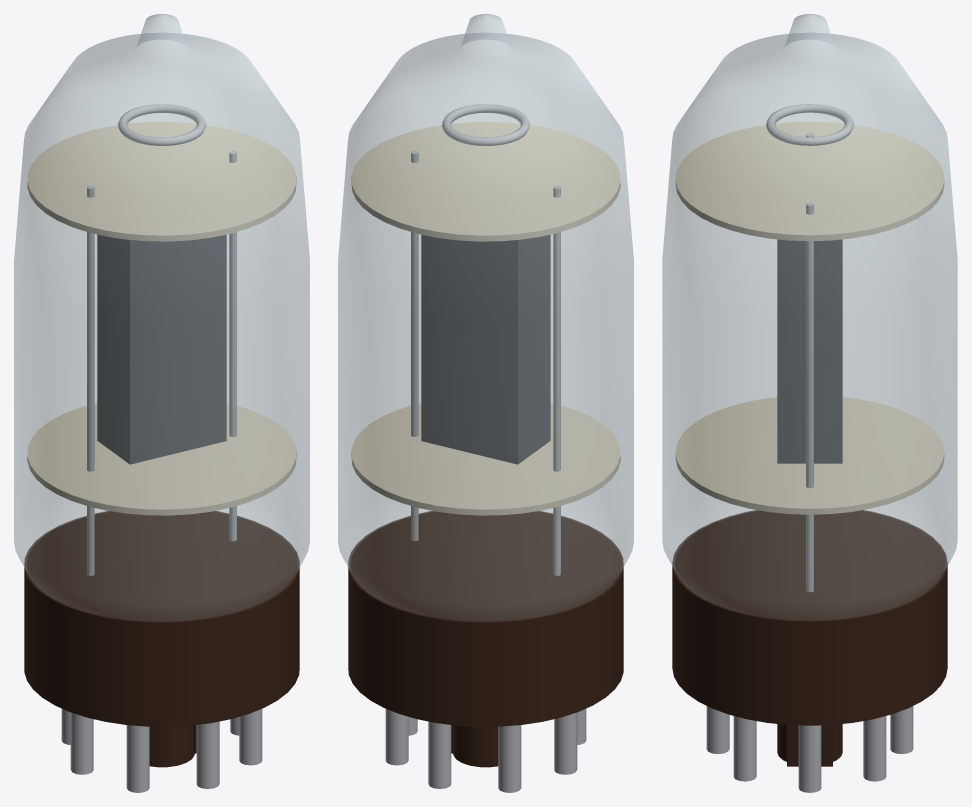
Rendered from glass-valve.glb.
3 views of the same model, side by side, from view 1: azimuth 30°, elevation 25°; view 2: azimuth 150°, elevation 25°; view 3: azimuth 270°, elevation 25° (orthographic).
Visible parts, largest first — view 1: part0, part1, part12, part14, part13, part15, part16, part2, part17, part7, part6, part8 (+1 smaller); view 2: part0, part1, part12, part14, part13, part15, part16, part2, part17, part9, part10, part8 (+1 smaller); view 3: part0, part1, part14, part13, part12, part16, part17, part4, part5, part11, part6, part10 (+2 smaller).
Part boxes in pixels (box(x1,y1,x2,y2)): part0: box(14, 14, 309, 621); part1: box(24, 511, 299, 726); part12: box(97, 234, 226, 464); part14: box(27, 122, 296, 241); part13: box(27, 403, 296, 515); part15: box(87, 185, 94, 575); part16: box(229, 151, 236, 541); part2: box(149, 725, 194, 767); part17: box(118, 104, 205, 145); part7: box(126, 725, 149, 792); part6: box(196, 721, 219, 788); part8: box(70, 712, 93, 774); part0: box(338, 14, 633, 621); part1: box(348, 511, 623, 726); part12: box(421, 234, 550, 464); part14: box(351, 122, 620, 241); part13: box(351, 403, 620, 515); part15: box(553, 185, 560, 575); part16: box(411, 151, 418, 541); part2: box(453, 725, 498, 767); part17: box(442, 104, 529, 145); part9: box(498, 725, 521, 792); part10: box(428, 721, 451, 788); part8: box(554, 712, 577, 774); part0: box(662, 14, 957, 620); part1: box(672, 510, 947, 725); part14: box(675, 121, 944, 241); part13: box(675, 397, 944, 514); part12: box(777, 239, 842, 463); part16: box(806, 202, 813, 592); part17: box(766, 104, 853, 145); part4: box(798, 725, 821, 792); part5: box(733, 716, 756, 781); part11: box(863, 716, 886, 781); part6: box(706, 706, 729, 753); part10: box(890, 706, 913, 753).
Size of the model in its own units: 0.9 by 2.48 by 0.9.
